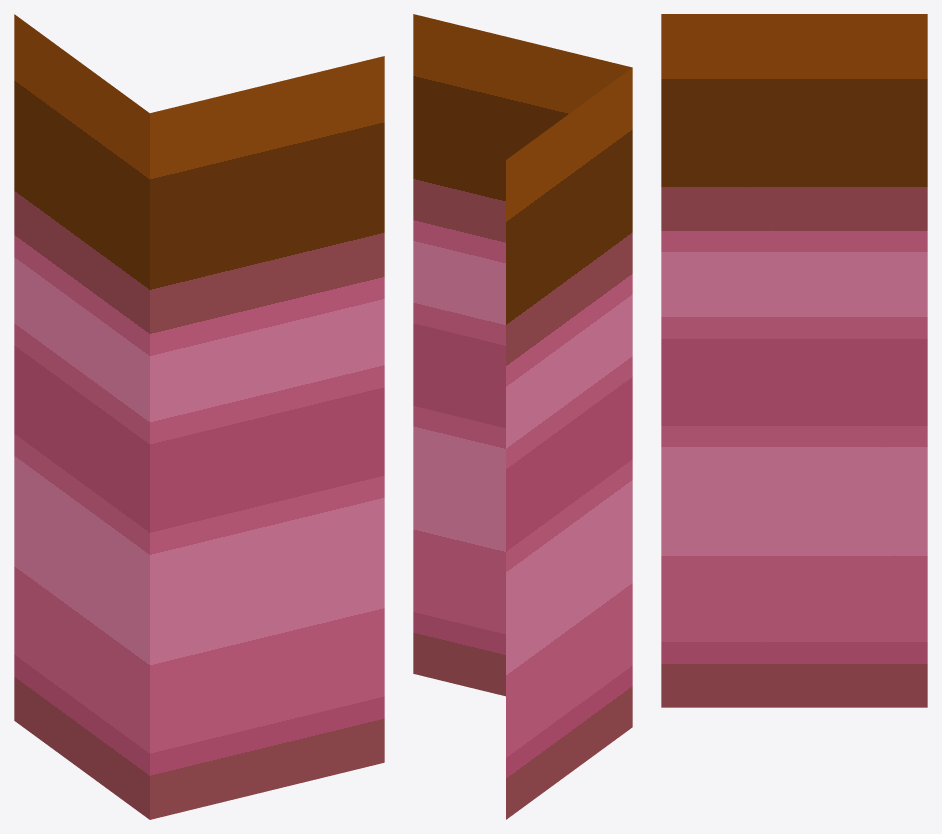
3 views of the same model, side by side, from view 1: azimuth 30°, elevation 25°; view 2: azimuth 150°, elevation 25°; view 3: azimuth 270°, elevation 25° (orthographic). The views are drawn at different scales.
Bounding box in the file's own units: 0.5 × 1.44 × 0.5.
Materials: 1 (1 with a texture image).
